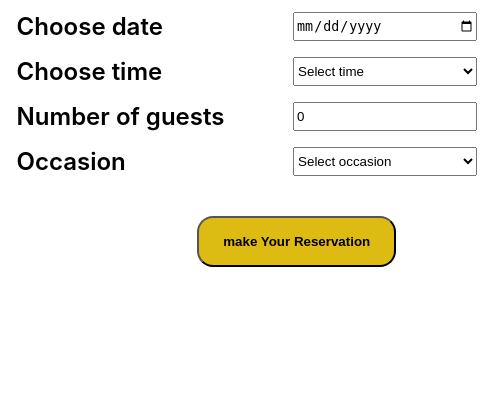
Test: Form Validation › should display error if date is not selected
Select "Select time" in the dropdown labelled "Choose time" at (385, 72), box [293,57,477,86]
Replace the text in the number field labelled "Number of guests" with "1" at (385, 116), box [293,102,477,131]
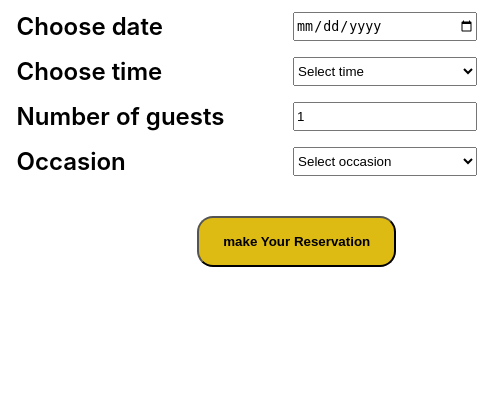
Select "Birthday" in the dropdown labelled "Occasion" at (385, 162), box [293,147,477,176]
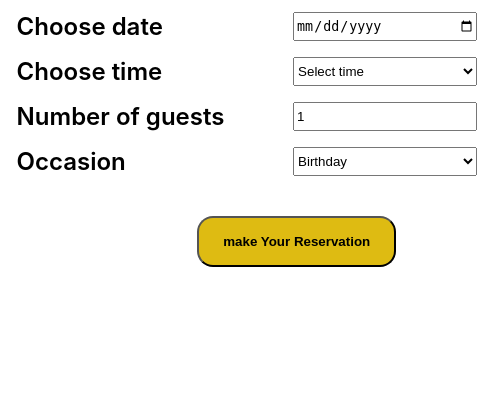
Click the button "make Your Reservation" at (297, 242), box [197,216,396,267]
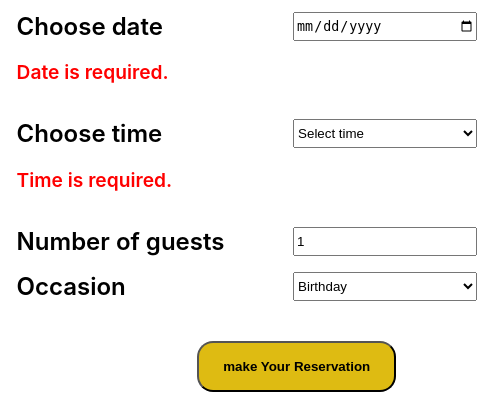
Now the text "Date is required." is shown, box [17,60,169,84]
